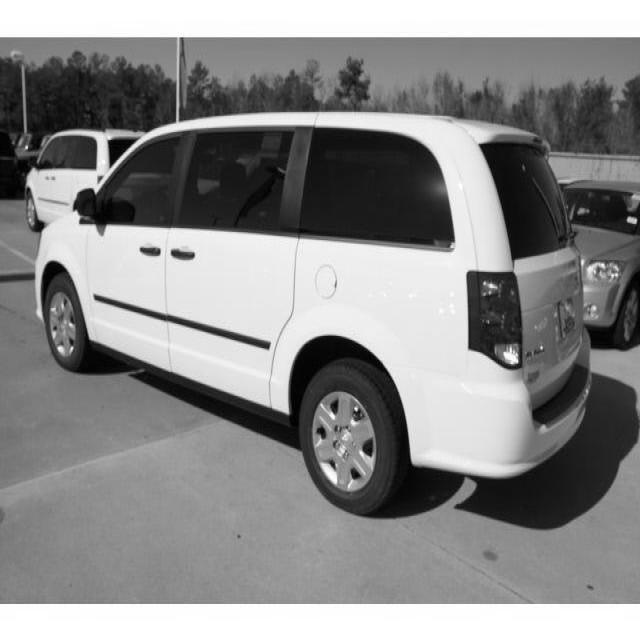car: (33, 109, 592, 516), (556, 178, 639, 350)
